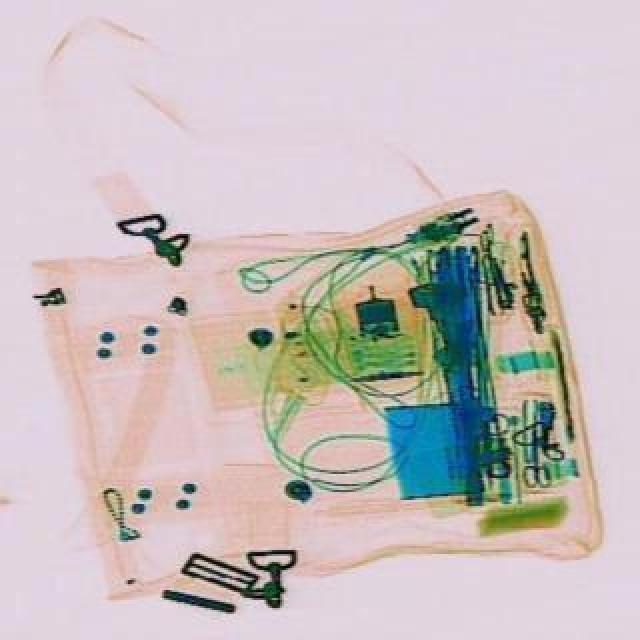pliers: (516, 416, 548, 488)
